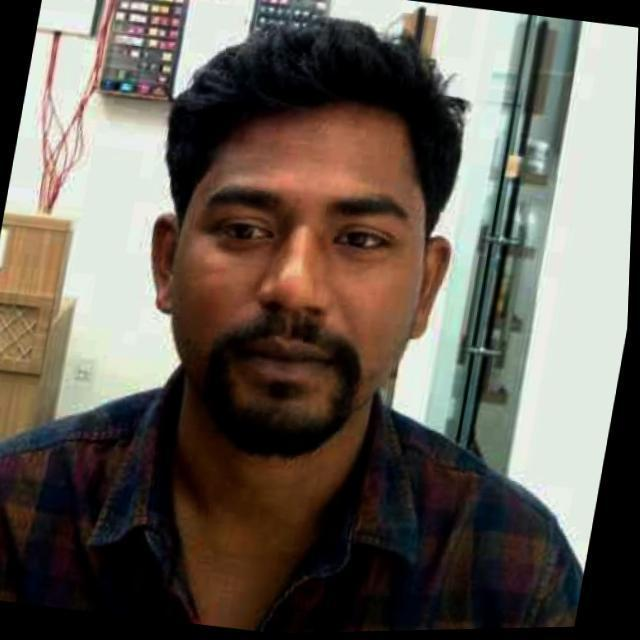puffy_eyes: (332, 238, 393, 263), (217, 239, 268, 252)
